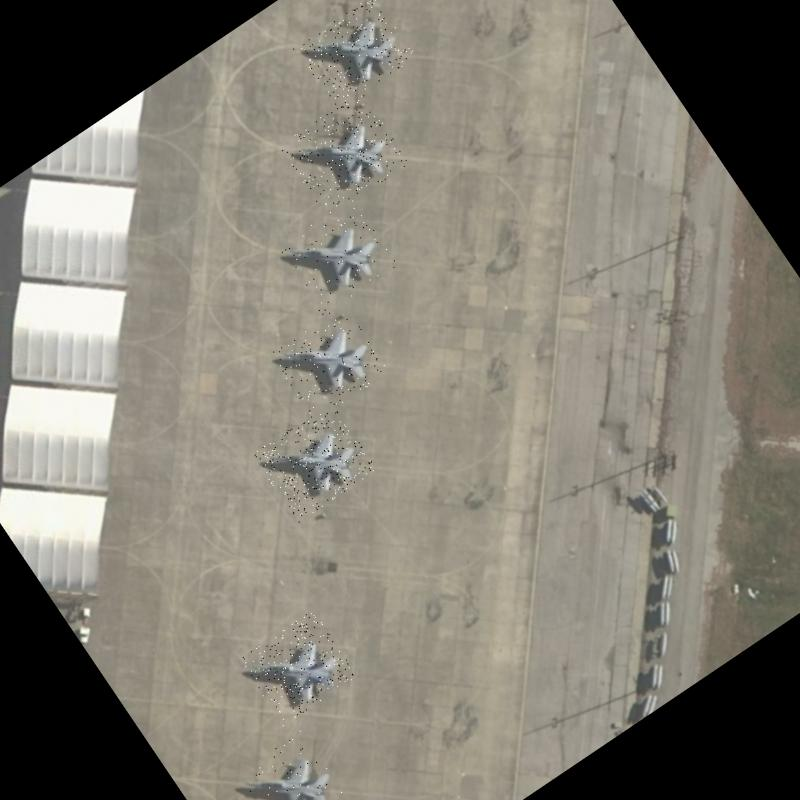A16: (279, 90, 410, 218), (252, 400, 378, 522), (277, 196, 399, 316), (270, 303, 390, 422), (239, 609, 358, 726), (293, 0, 417, 111), (233, 728, 348, 800)
